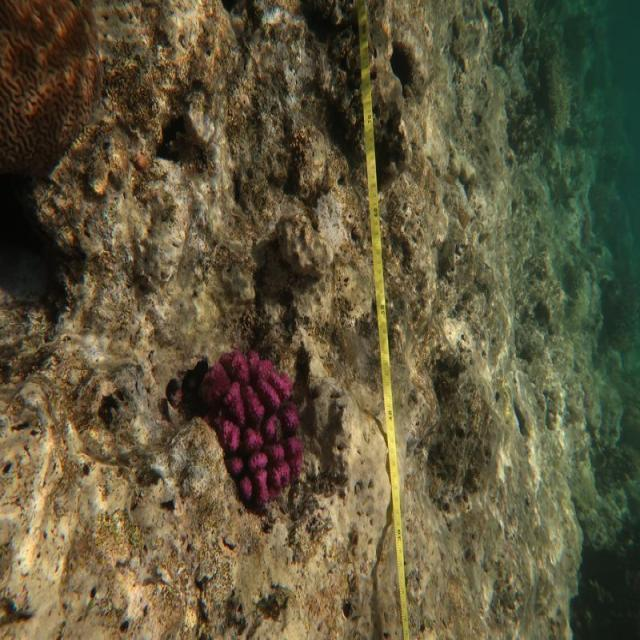Healthy Coral: (173, 336, 321, 517), (0, 1, 108, 202)
